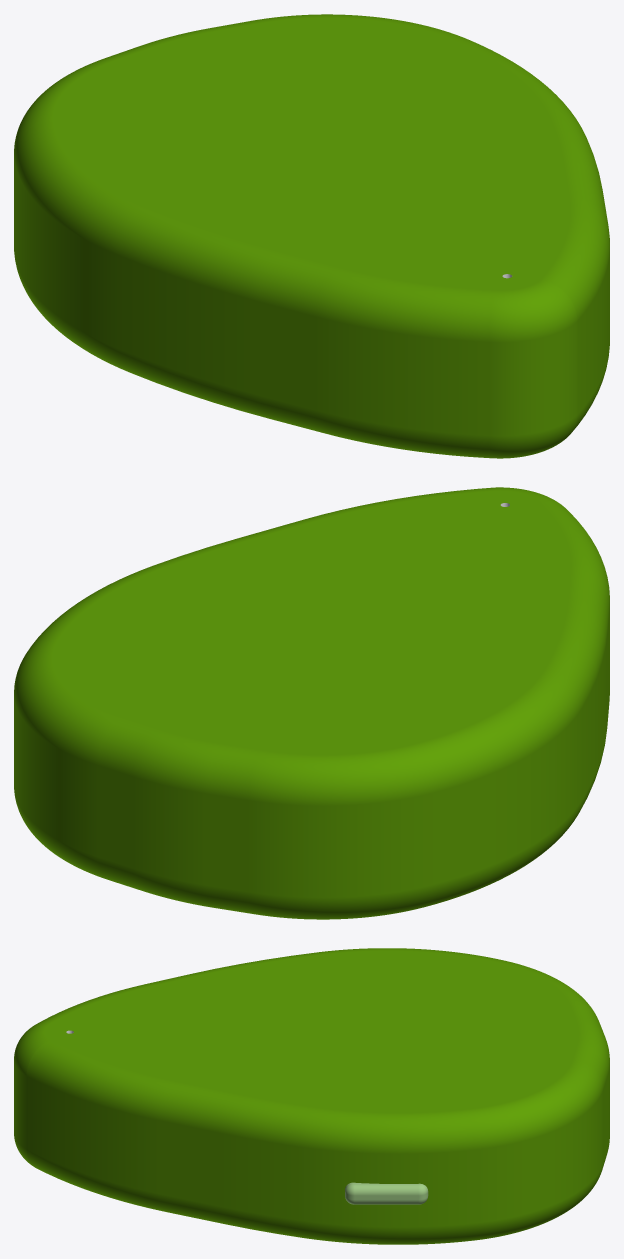
Rendered from SOSAI_KEY_INTERACTIVE.glb.
3 renders of one model, top to bottom at view 1: azimuth 30°, elevation 25°; view 2: azimuth 150°, elevation 25°; view 3: azimuth 270°, elevation 25°, orthographic. The views are drawn at different scales.
Visible parts, largest first — view 1: Part 1; view 2: Part 1; view 3: Part 1.
Part boxes in pixels (left/top/right/bottom): Part 1: left=14, top=14, right=609, bottom=458; Part 1: left=14, top=487, right=609, bottom=919; Part 1: left=14, top=948, right=609, bottom=1244.
Size of the model in its own units: 0.0455 by 0.0186 by 0.0597.
